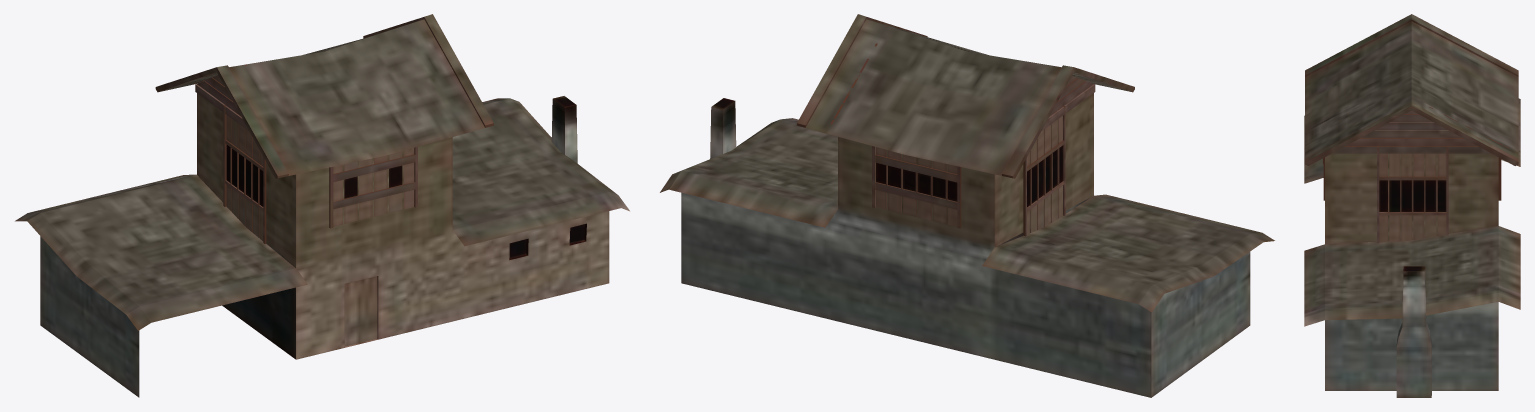
Rendered from House2.fbx.
The picture shows the model from 3 angles, left to right: view 1: azimuth 30°, elevation 25°; view 2: azimuth 150°, elevation 25°; view 3: azimuth 270°, elevation 25°; orthographic projection. The views are drawn at different scales.
Visible parts, largest first — view 1: Village; view 2: Village; view 3: Village.
Boxes of the visible parts, x1,y1,x2,y2 form: Village: [15, 14, 629, 397]; Village: [660, 14, 1274, 397]; Village: [1304, 14, 1520, 397].
Size of the model in its own units: 1053 by 533 by 453.
1 material, 1 textured.
